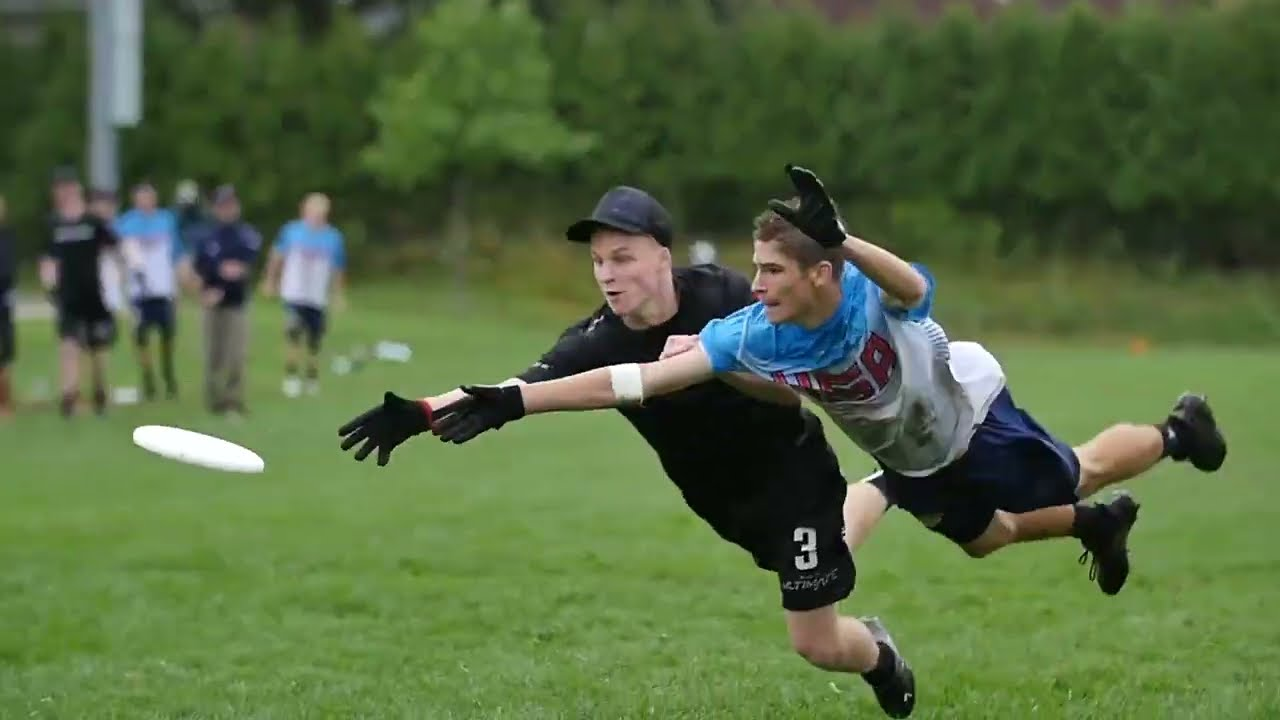disc: (133, 423, 268, 478)
